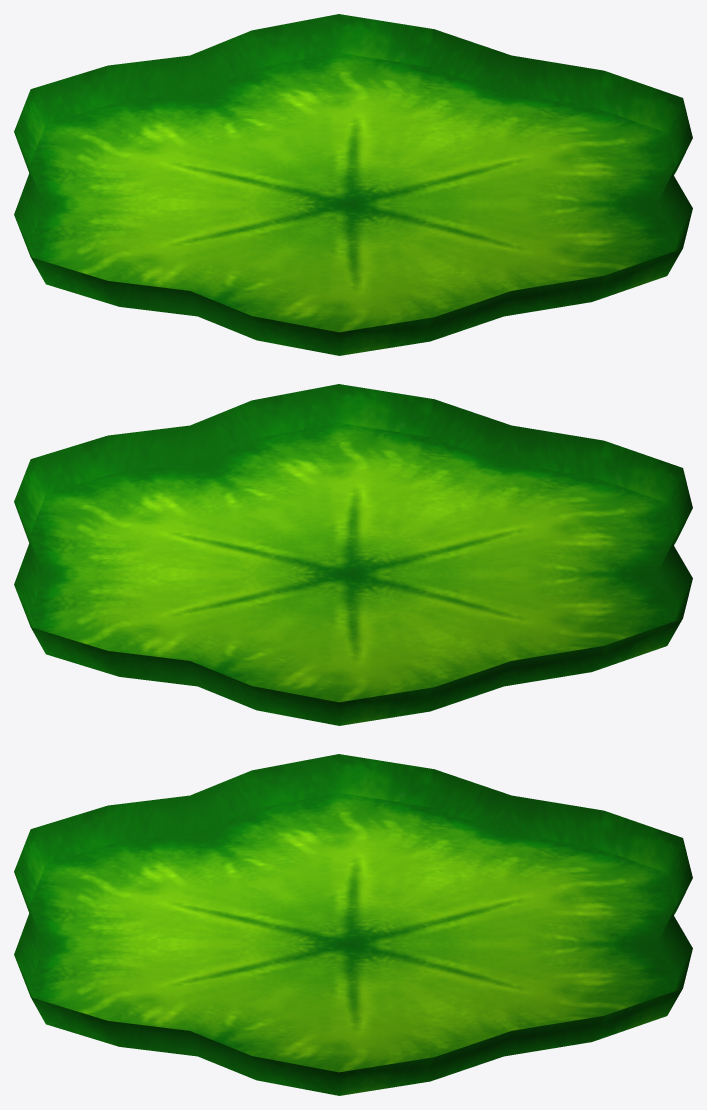
The model's file is leaf-lotus.fbx.
The picture shows the model from 3 angles, top to bottom: view 1: azimuth 30°, elevation 25°; view 2: azimuth 150°, elevation 25°; view 3: azimuth 270°, elevation 25°; orthographic projection.
Visible parts, largest first — view 1: leaf-lotus; view 2: leaf-lotus; view 3: leaf-lotus.
Boxes of the visible parts, left/top/right/bottom form: leaf-lotus: left=14, top=14, right=692, bottom=355; leaf-lotus: left=14, top=384, right=692, bottom=725; leaf-lotus: left=14, top=754, right=692, bottom=1095.
Size of the model in its own units: 674 by 30.76 by 607.
